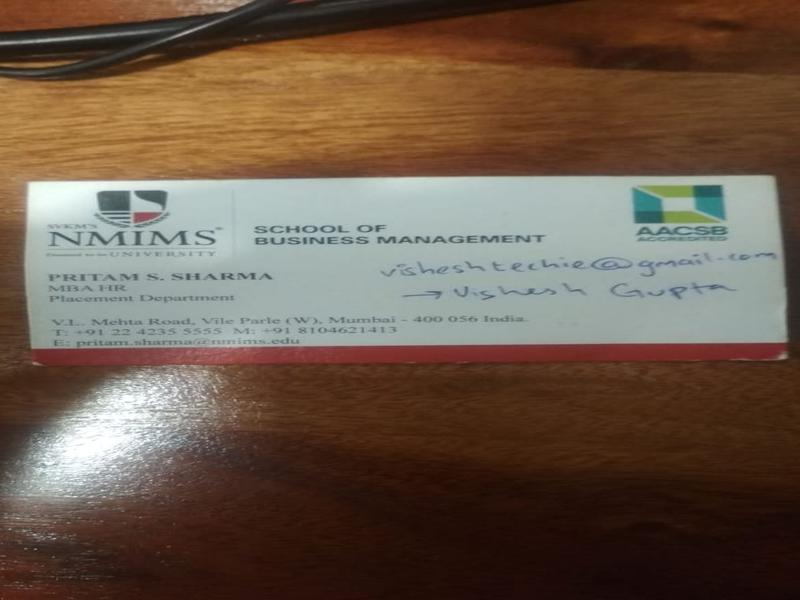card: (24, 175, 792, 363)
